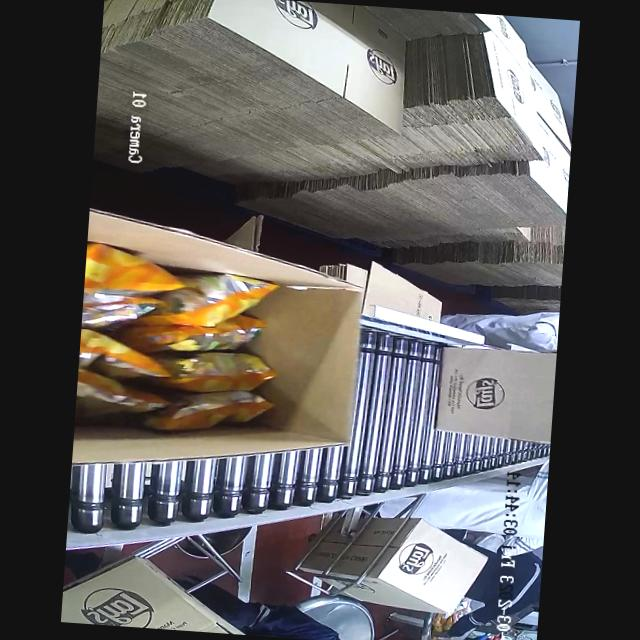cheese: (74, 241, 310, 428)
